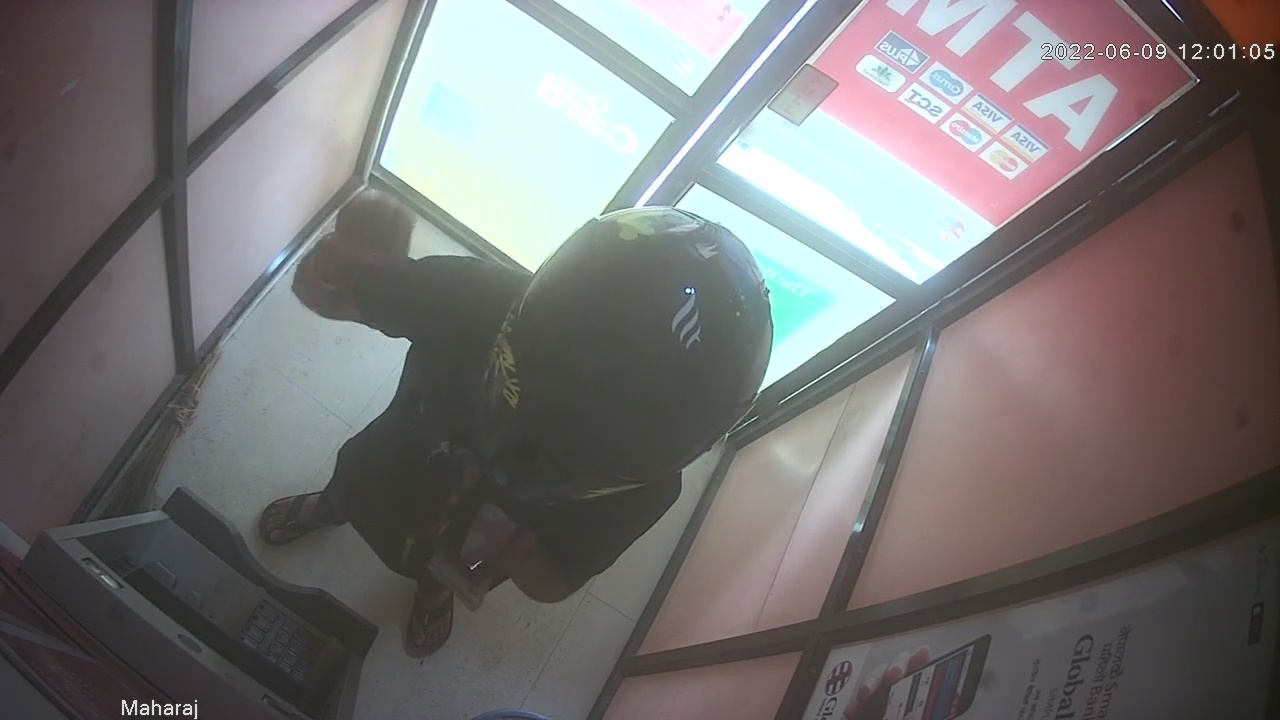helmet: (475, 206, 776, 502)
person: (258, 188, 774, 656)
